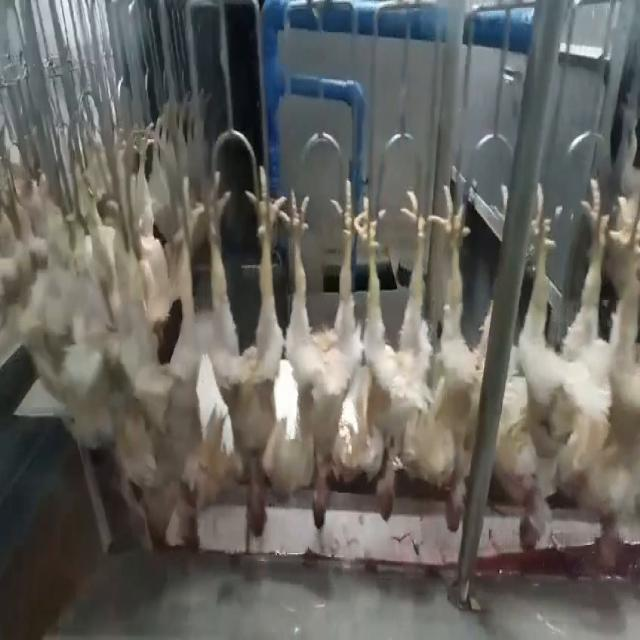chicken: (505, 179, 608, 568), (274, 170, 366, 547), (197, 154, 283, 536), (350, 175, 434, 526), (424, 186, 489, 538), (588, 200, 638, 576)
